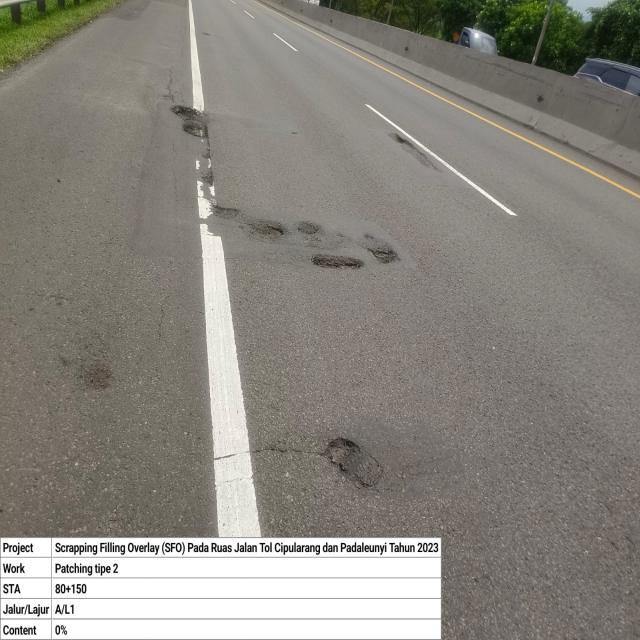Buraco: (168, 103, 214, 161), (385, 131, 440, 172), (317, 435, 363, 474), (234, 218, 289, 245), (307, 252, 366, 272), (364, 246, 401, 266), (208, 203, 243, 221), (294, 220, 322, 237), (198, 169, 216, 187)
